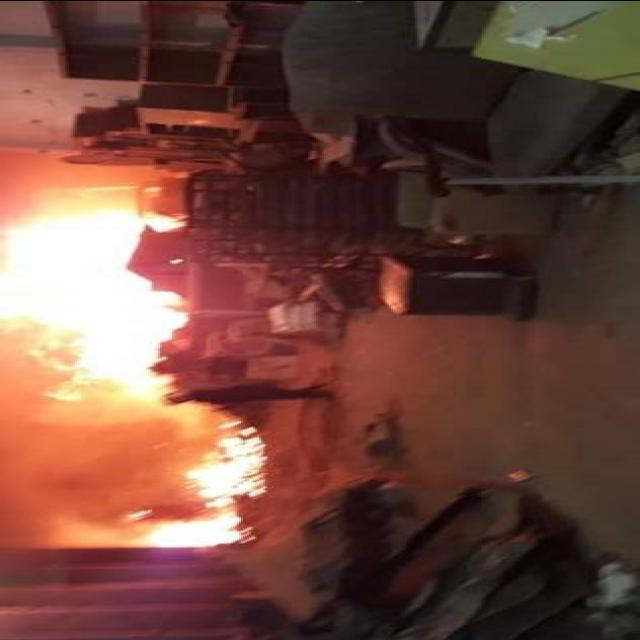Fire: (8, 192, 186, 400), (138, 426, 264, 556)
